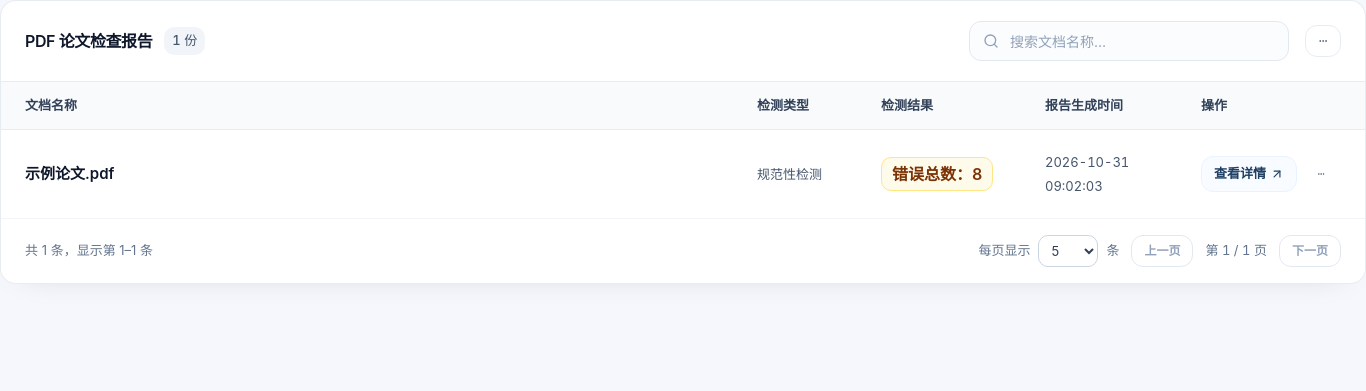
Test case: reveals batch management on request and clears selection when management is closed
Click the button named "报告管理": (1323, 41) [1305,25,1341,57]
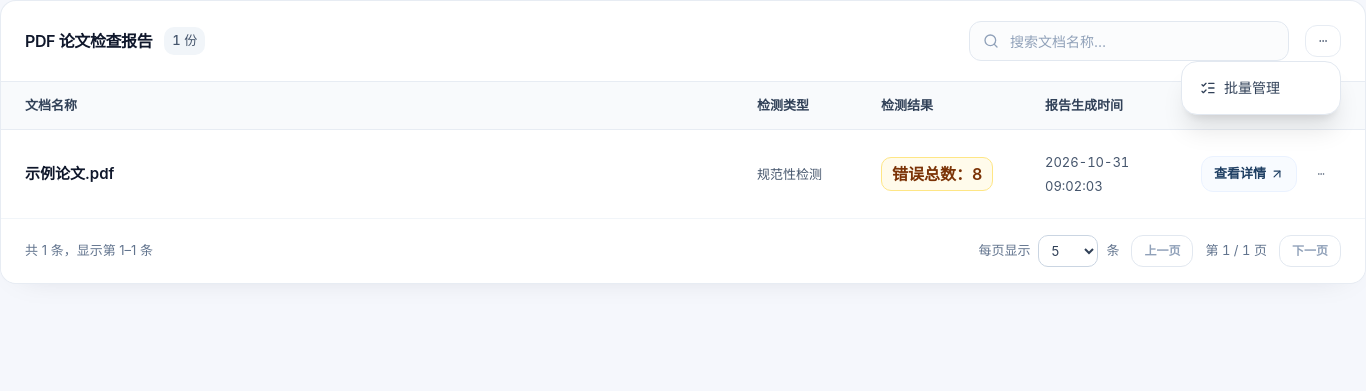
Click the menu item "批量管理": (1240, 88) [1200,79,1280,96]
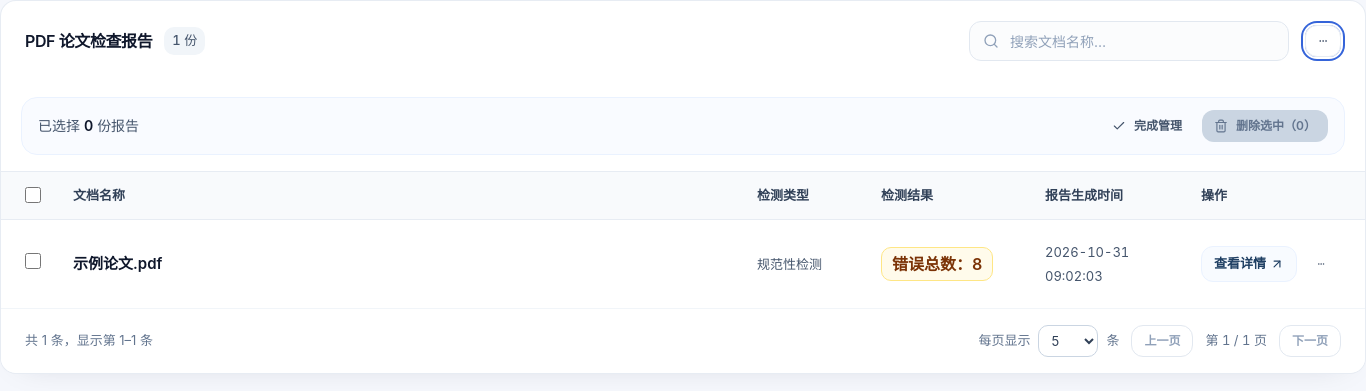
Now the button "删除选中（0）" is disabled, box [1202,110,1328,142]
Click the checkbox named "全选报告": (33, 195) [25,187,41,203]
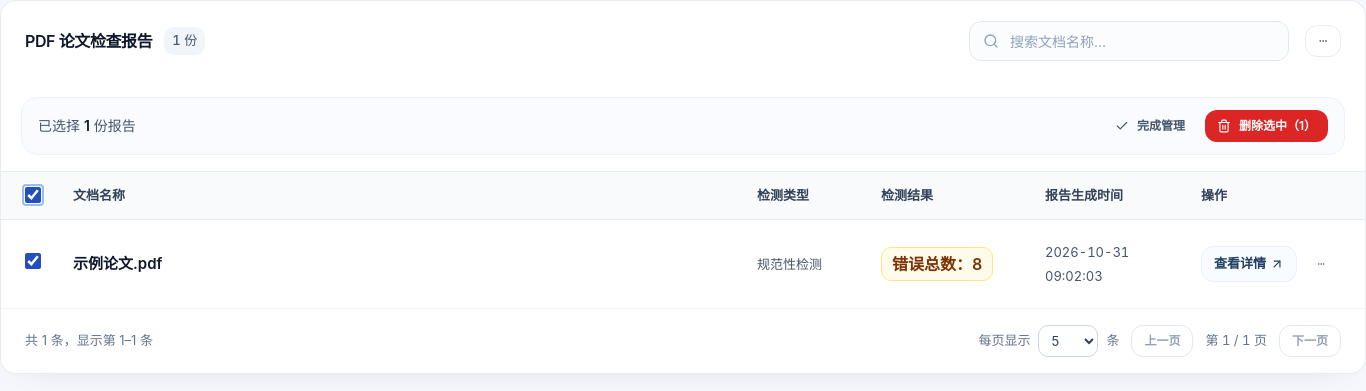
Now the button "删除选中（1）" is enabled, box [1205,110,1328,142]
Click the button "完成管理": (1150, 126) [1103,110,1197,142]
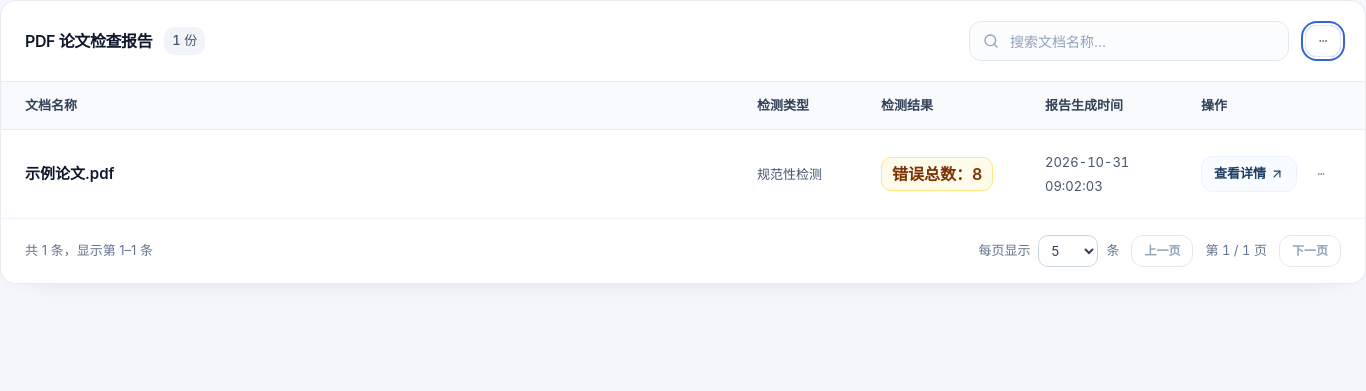
Now the checkbox is gone
Now the button "删除选中" is gone
Click the button named "报告管理": (1323, 41) [1305,25,1341,57]
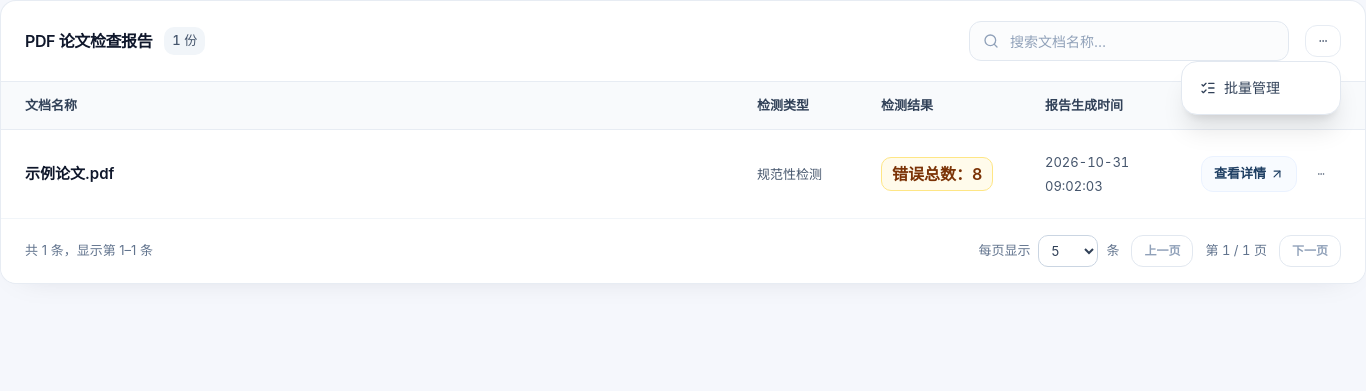
Click the menu item "批量管理": (1240, 88) [1200,79,1280,96]
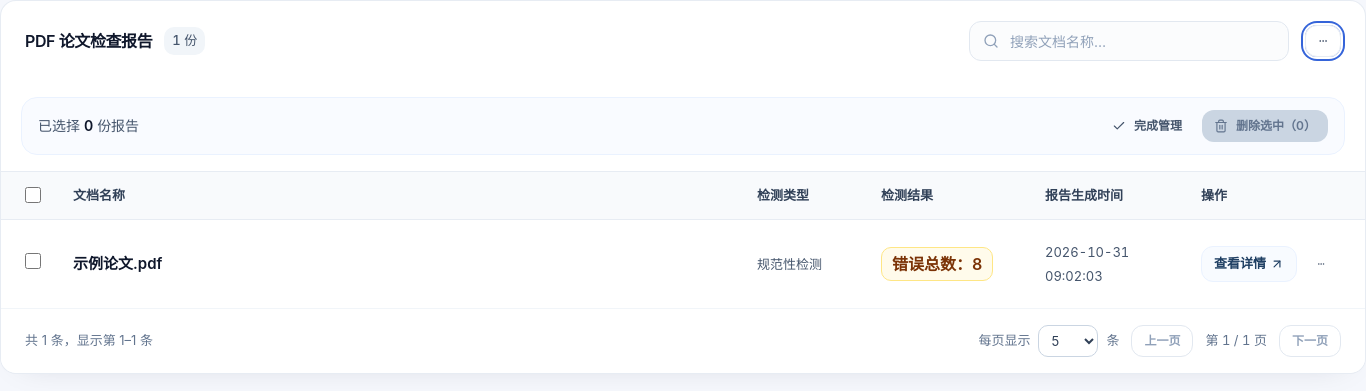
Now the checkbox named "全选报告" is not checked, box [25,187,41,203]
Now the button "删除选中（0）" is disabled, box [1202,110,1328,142]
